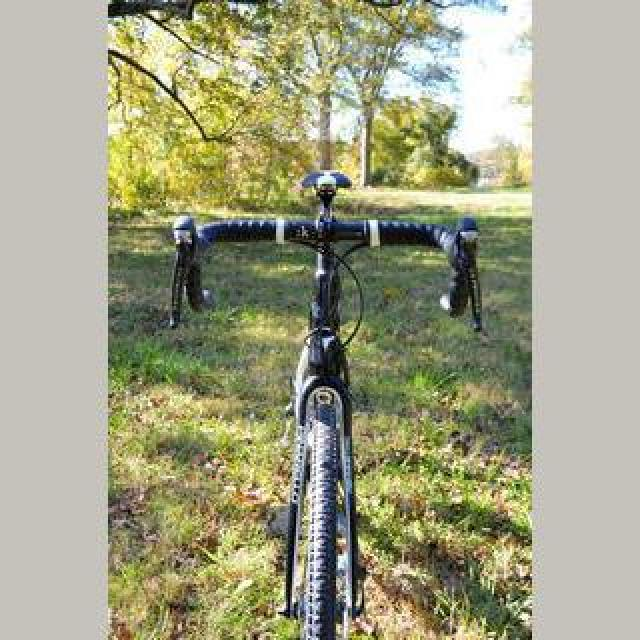Person: (165, 174, 493, 640)
